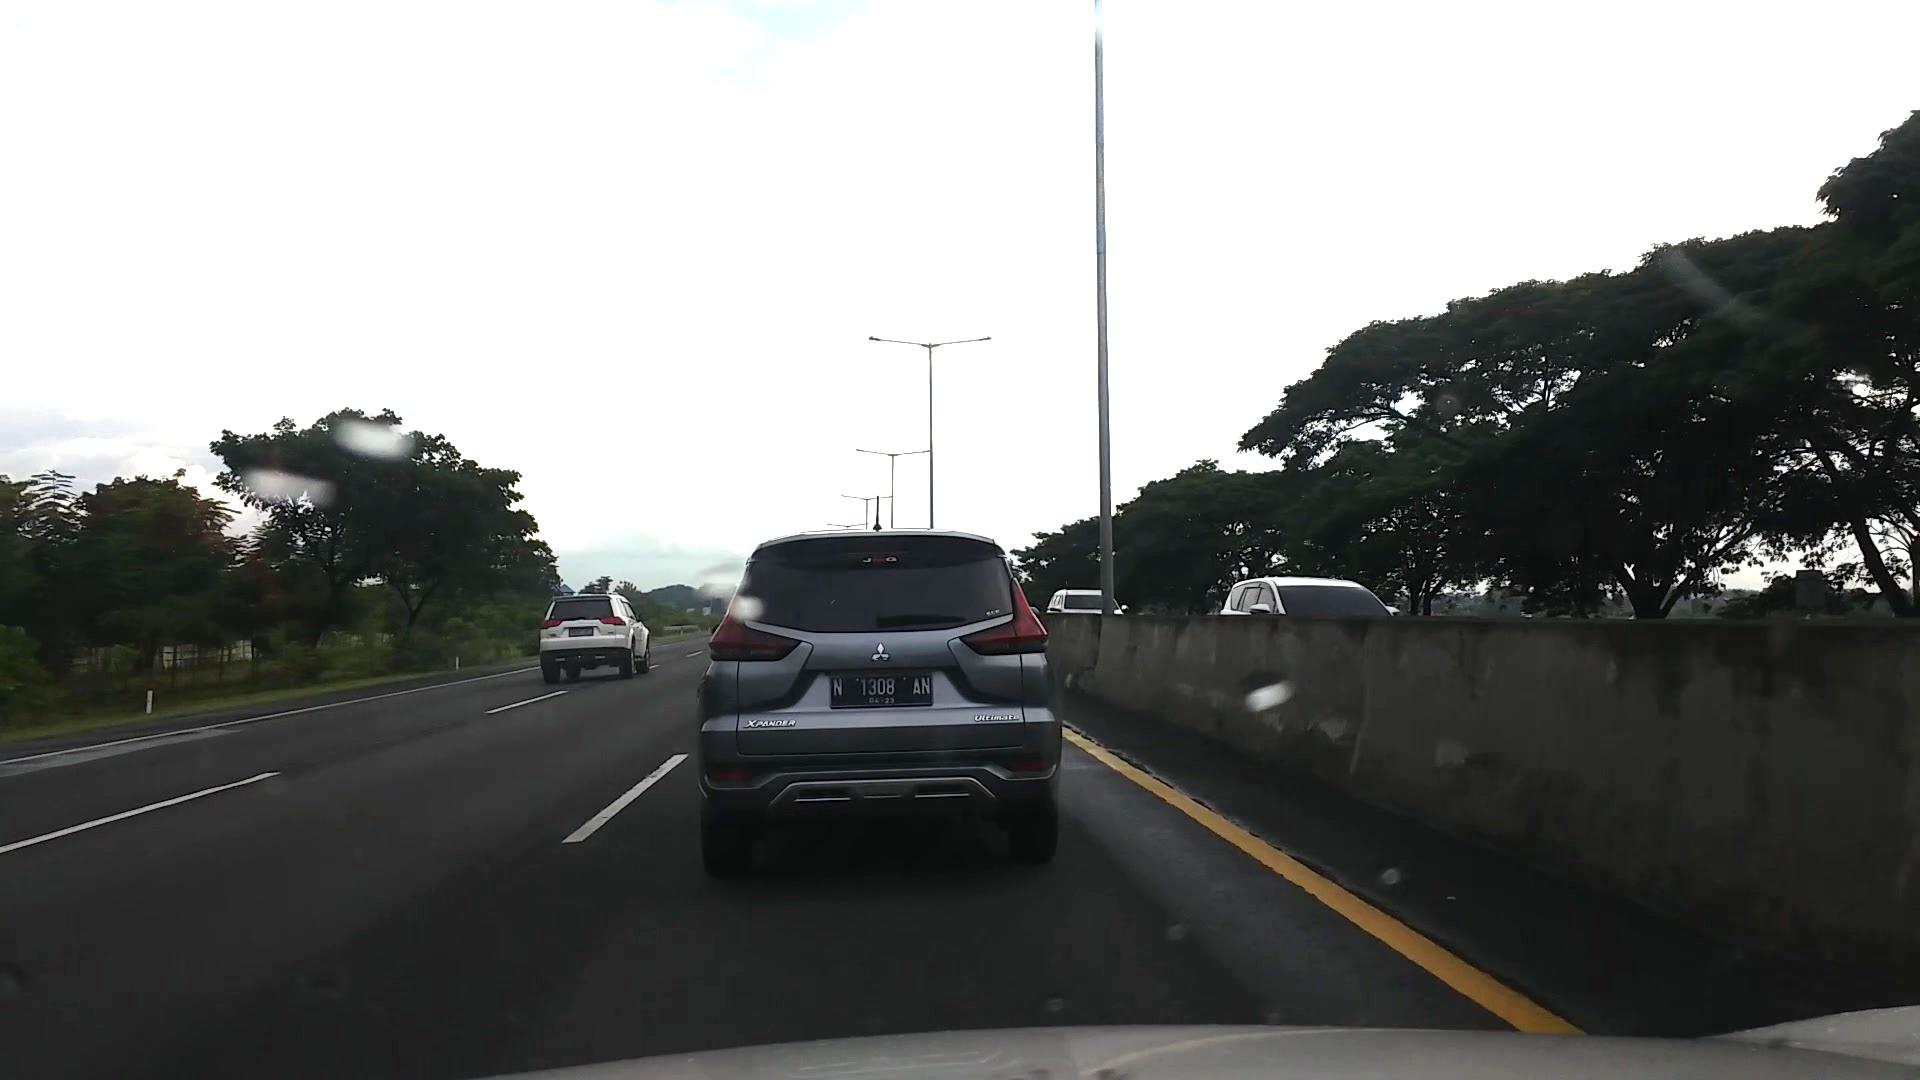plate_positive: (831, 673, 934, 708)
